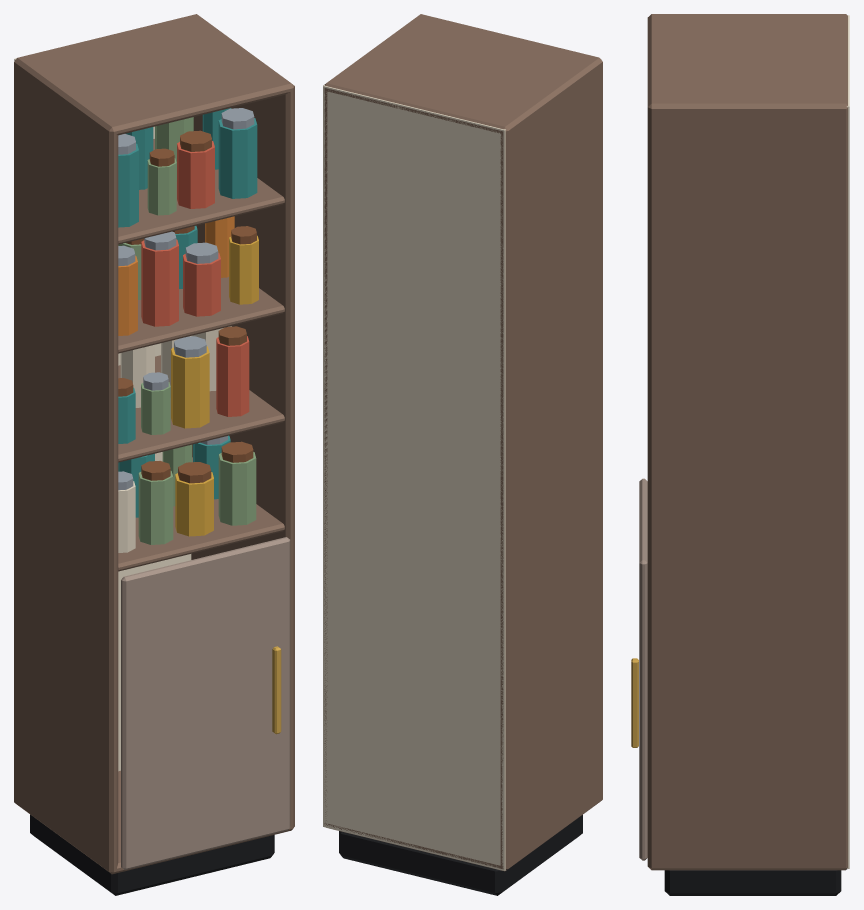
File: pantry.glb
The picture shows the model from 3 angles, left to right: view 1: azimuth 30°, elevation 25°; view 2: azimuth 150°, elevation 25°; view 3: azimuth 270°, elevation 25°; orthographic projection. The views are drawn at different scales.
Parts seen in each view (by area): view 1: pantry_Body; view 2: pantry_Body; view 3: pantry_Body.
Boxes of the visible parts, bbox=[...] form: pantry_Body: bbox=[14, 14, 294, 895]; pantry_Body: bbox=[323, 14, 602, 895]; pantry_Body: bbox=[631, 14, 849, 895].
Size of the model in its own units: 0.5 by 2 by 0.496.
